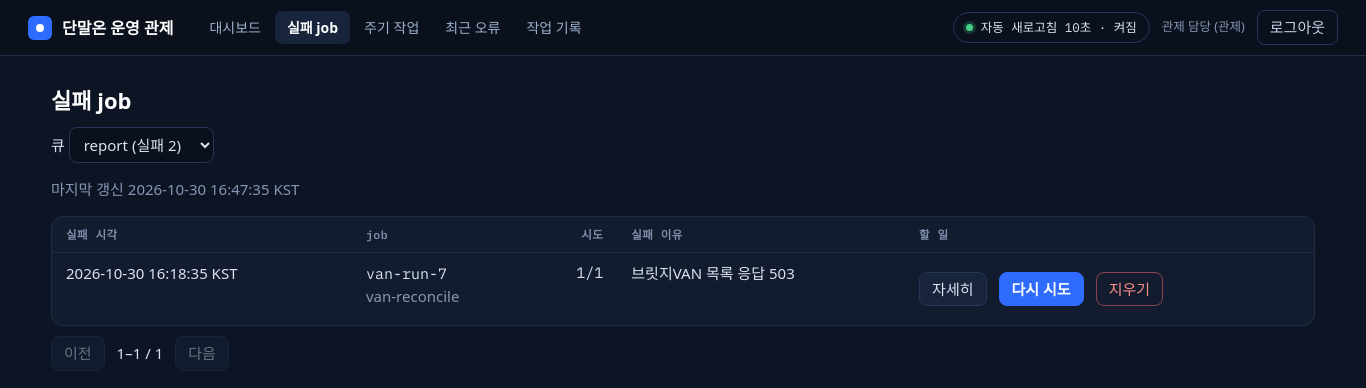
Test case: 실패 job (보강 6, decisions/0072) › 409 JOB_NOT_FAILED(다른 사람이 먼저 처리)면 안내를 보이고 목록을 다시 읽는다
What coordinates should you click on to do the following:
click the button "다시 시도"
I would click on:
 (1041, 289)
Its box is [998,272,1084,306].
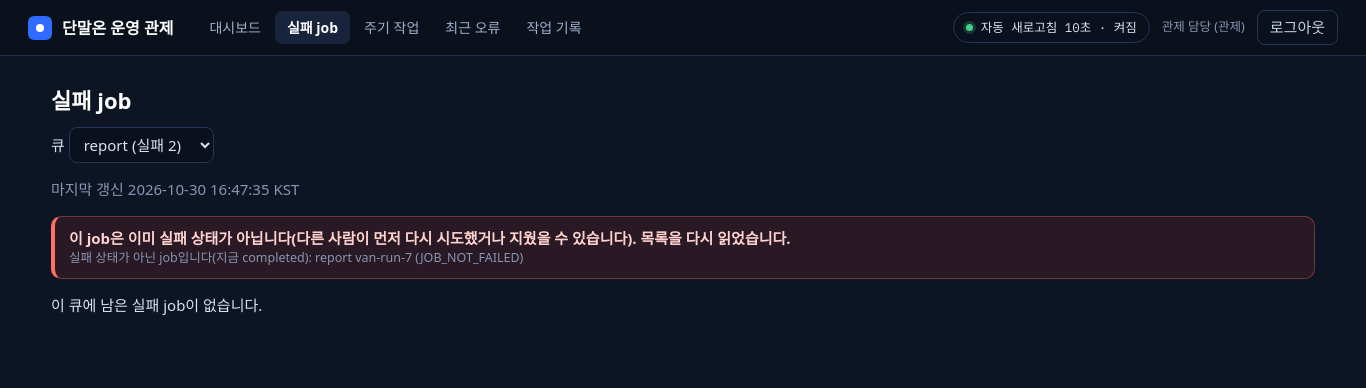
Expected: the 2nd message shows "이 job은 이미 실패 상태가 아닙니다", [69,228,791,248]
Expected: the text "이 큐에 남은 실패 job이 없습니다." is shown, [51,295,262,315]
